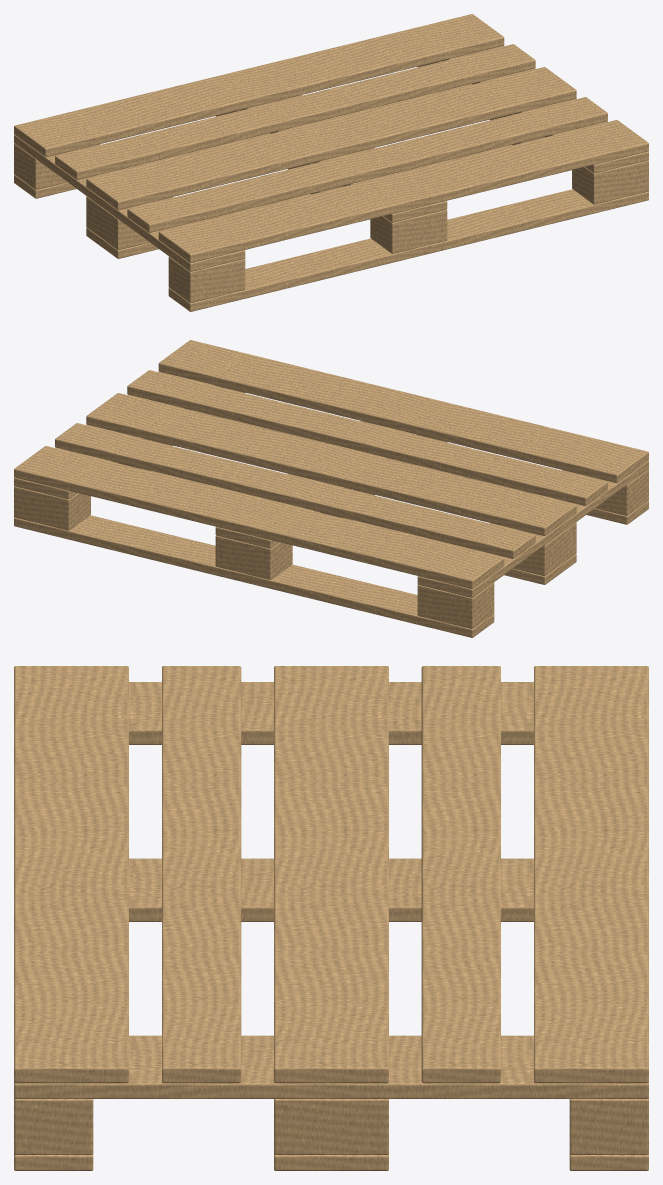
The model's file is pallet_euro.gltf.
3 renders of one model, top to bottom at view 1: azimuth 30°, elevation 25°; view 2: azimuth 150°, elevation 25°; view 3: azimuth 270°, elevation 25°, orthographic. The views are drawn at different scales.
Visible parts, largest first — view 1: pallet_euro; view 2: pallet_euro; view 3: pallet_euro.
Boxes of the visible parts, <box> form: pallet_euro: <box>14,14,648,311</box>; pallet_euro: <box>14,340,648,637</box>; pallet_euro: <box>14,666,648,1170</box>.
Size of the model in its own units: 1.2 by 0.144 by 0.8.
Materials: 1 (1 with a texture image).
